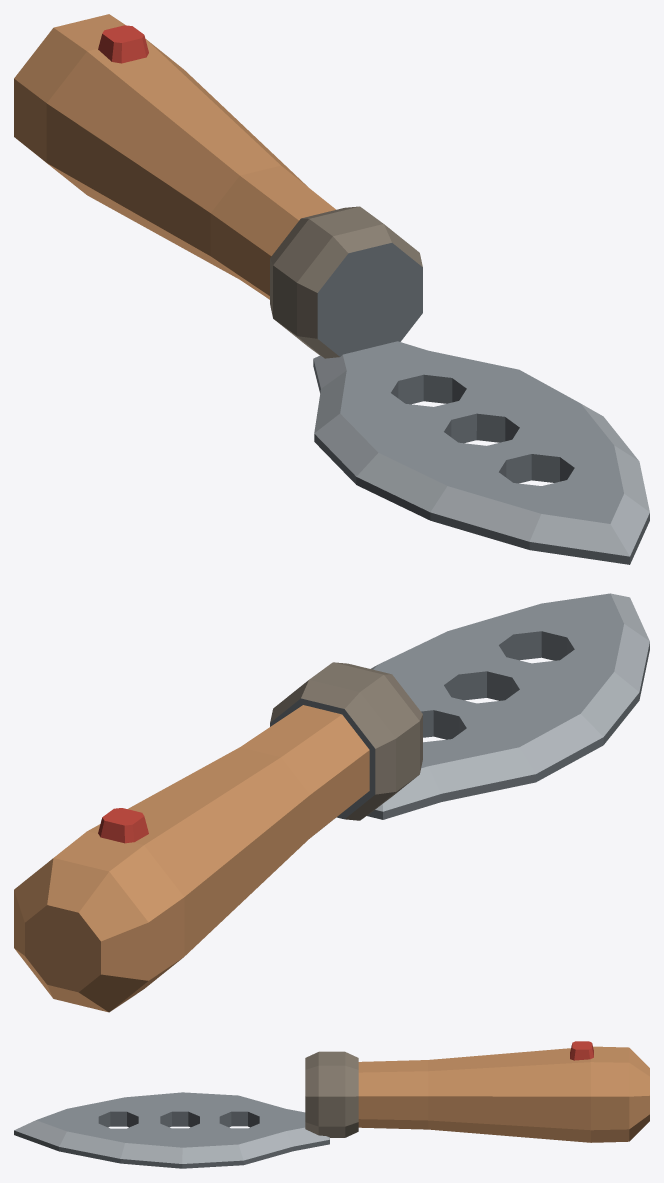
File: FMS_Workshop_TOL_11.fbx
3 renders of one model, top to bottom at view 1: azimuth 30°, elevation 25°; view 2: azimuth 150°, elevation 25°; view 3: azimuth 270°, elevation 25°, orthographic. The views are drawn at different scales.
Visible parts, largest first — view 1: FMS_Workshop_TOL_11_Body; view 2: FMS_Workshop_TOL_11_Body; view 3: FMS_Workshop_TOL_11_Body.
Boxes of the visible parts, x1=… form: FMS_Workshop_TOL_11_Body: x1=14, y1=14, x2=649, y2=564; FMS_Workshop_TOL_11_Body: x1=14, y1=593, x2=649, y2=1012; FMS_Workshop_TOL_11_Body: x1=14, y1=1041, x2=649, y2=1168.
Bounding box in the file's own units: 0.078 × 0.0482 × 0.31.
Materials: 1 (1 with a texture image).
